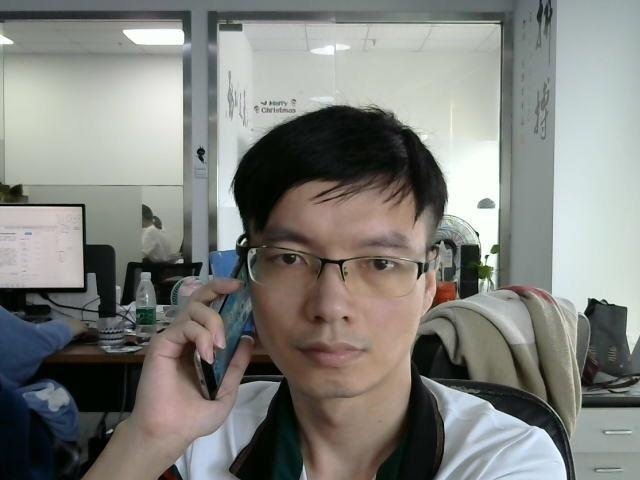hand: (149, 278, 249, 421)
